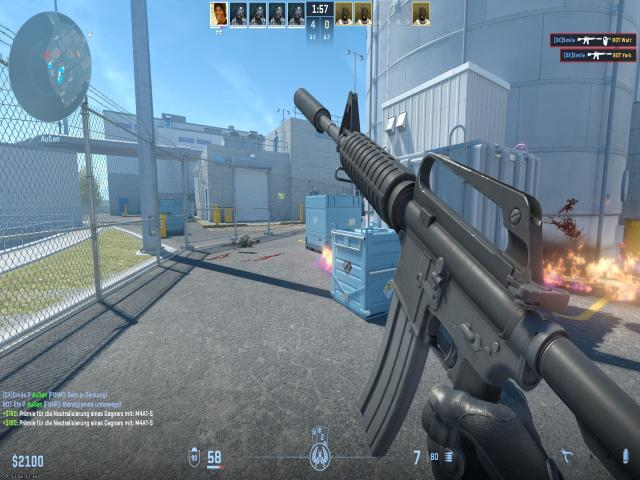Dead: (231, 234, 262, 248)
